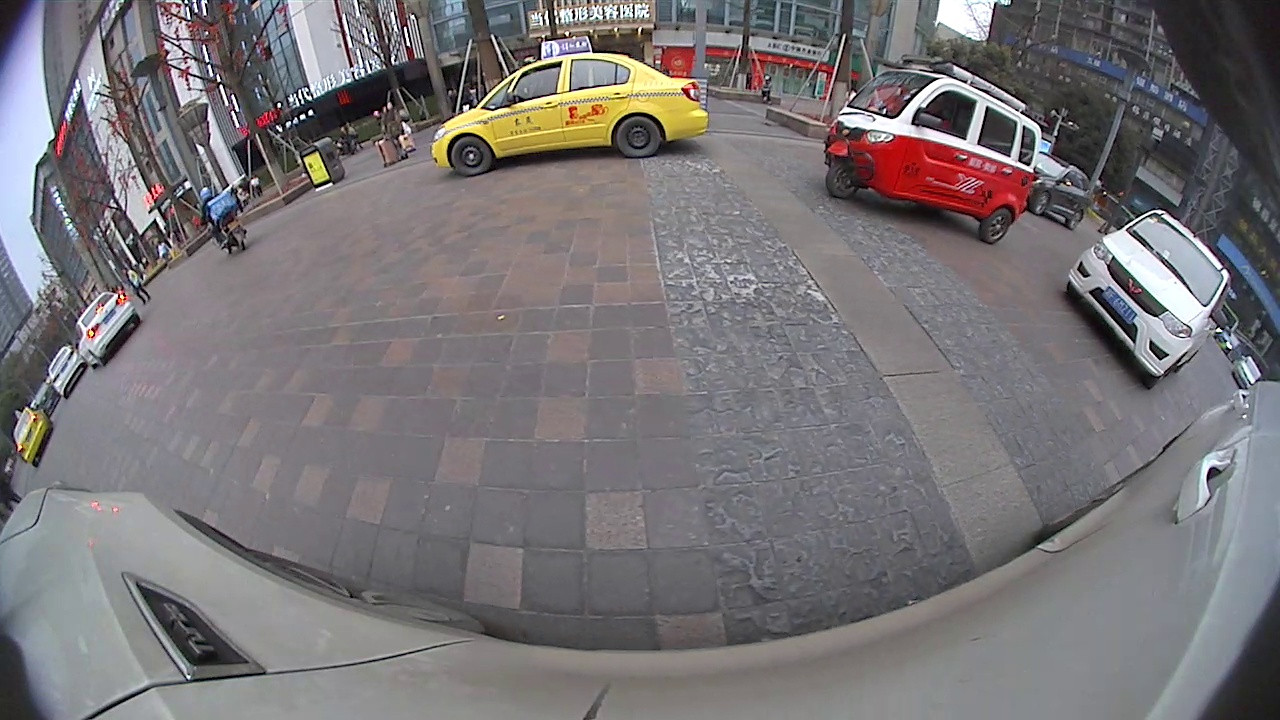car: (431, 33, 711, 179), (1066, 206, 1235, 392), (1025, 150, 1093, 231), (74, 290, 142, 369), (10, 403, 55, 469), (45, 344, 90, 402)
front: (447, 134, 496, 179), (822, 158, 863, 202)
rear: (614, 113, 663, 160), (980, 205, 1015, 248)
rider: (823, 54, 1044, 246), (199, 186, 250, 255)
